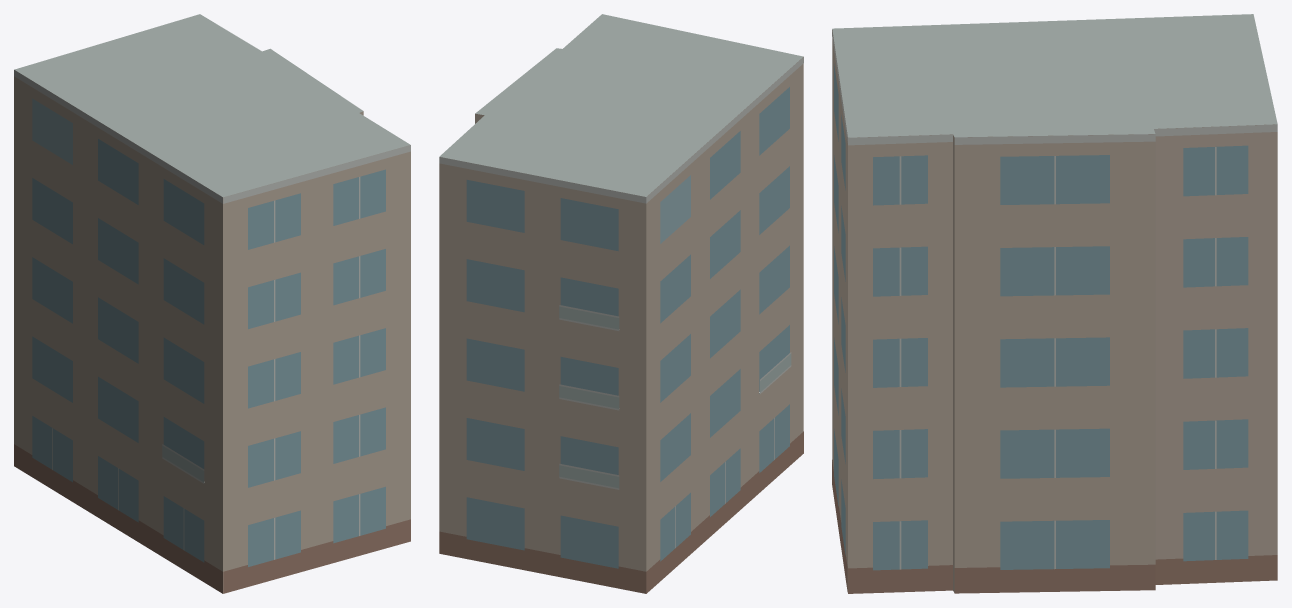
Rendered from survey-upis-32886724.glb.
3 views of the same model, side by side, from view 1: azimuth 30°, elevation 25°; view 2: azimuth 150°, elevation 25°; view 3: azimuth 270°, elevation 25° (orthographic). The views are drawn at different scales.
Parts seen in each view (by area): view 1: survey-upis-32886724.tmp; view 2: survey-upis-32886724.tmp; view 3: survey-upis-32886724.tmp.
Part boxes in pixels (x1,y1,x2,y2): survey-upis-32886724.tmp: (14,14,410,593); survey-upis-32886724.tmp: (439,14,803,593); survey-upis-32886724.tmp: (832,14,1277,593).
Size of the model in its own units: 8.5 by 14.6 by 12.93.
